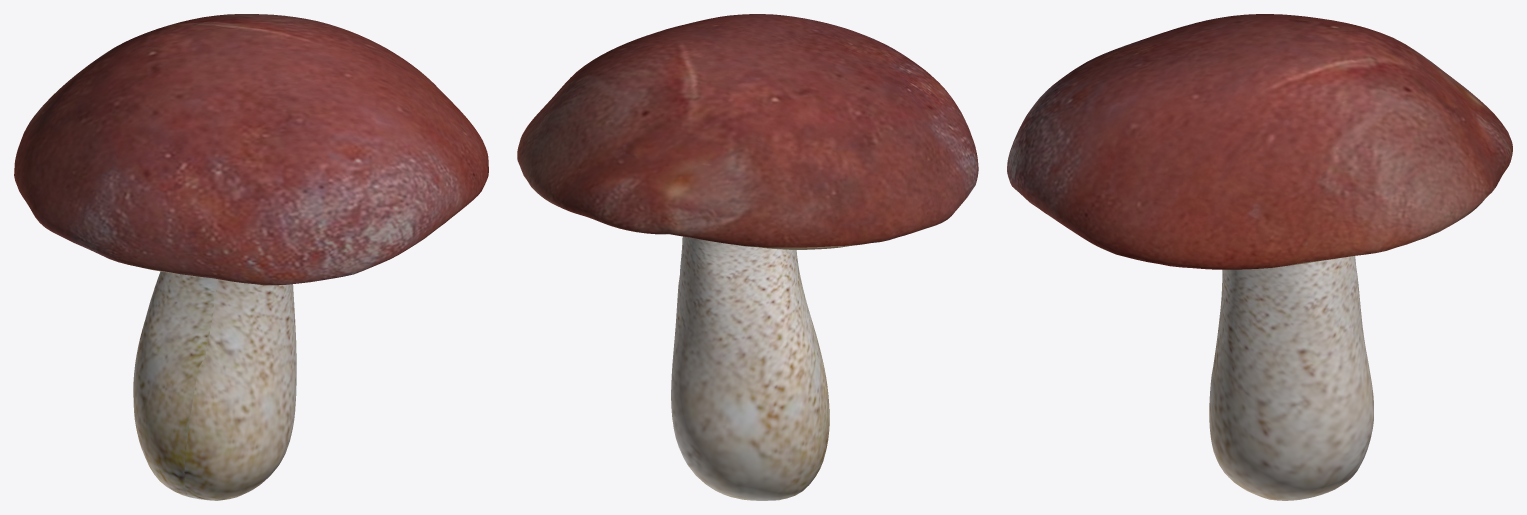
The model's file is SENE_40.fbx.
3 views of the same model, side by side, from view 1: azimuth 30°, elevation 25°; view 2: azimuth 150°, elevation 25°; view 3: azimuth 270°, elevation 25° (orthographic). The views are drawn at different scales.
Visible parts, largest first — view 1: SENE_40; view 2: SENE_40; view 3: SENE_40.
Boxes of the visible parts, box(x1,y1,x2,y2) form: SENE_40: box(14, 14, 488, 500); SENE_40: box(517, 14, 978, 500); SENE_40: box(1007, 14, 1512, 500).
Size of the model in its own units: 90.43 by 91.93 by 93.23.
1 material, 1 textured.
